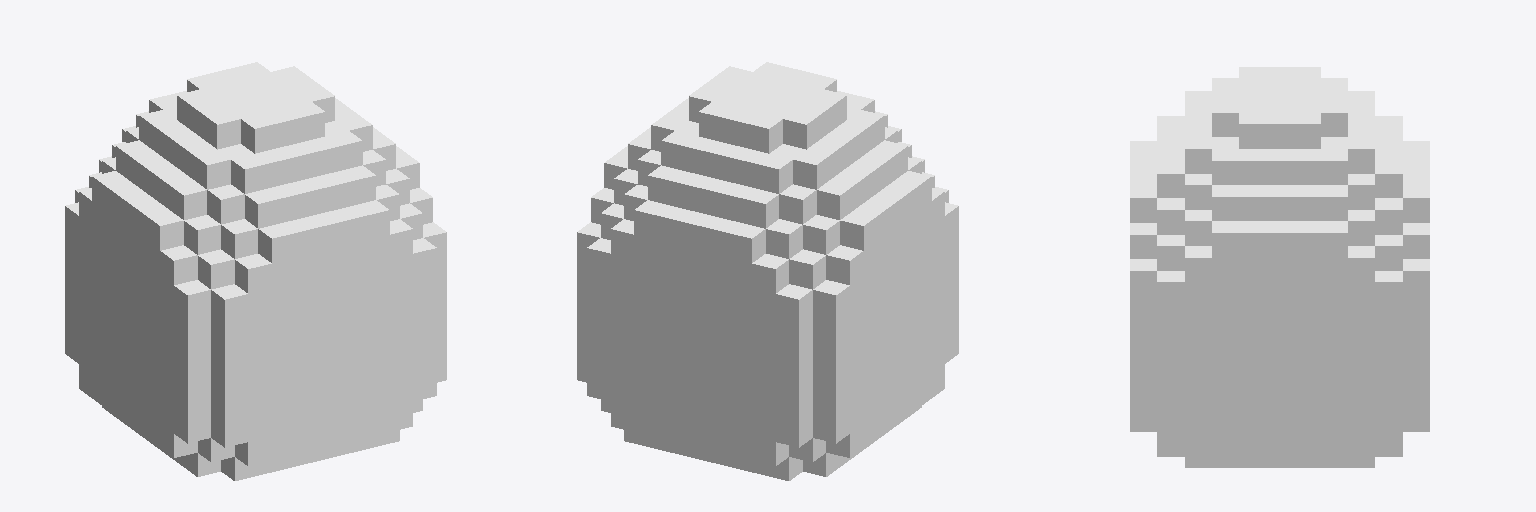
The model's file is egg_zigzag.obj.
3 renders of one model, left to right at view 1: azimuth 30°, elevation 25°; view 2: azimuth 150°, elevation 25°; view 3: azimuth 270°, elevation 25°, orthographic.
Parts seen in each view (by area): view 1: egg, egg_white, egg_gold, blob, egg_heart, egg_spotted, egg_zigzag; view 2: egg_zigzag, egg_white, egg, blob, egg_gold, egg_spotted, egg_heart; view 3: egg_zigzag, egg_white.
Boxes of the visible parts, x1,y1,x2,y2 form: egg: [65, 80, 446, 480]; egg_white: [65, 62, 445, 480]; egg_gold: [65, 194, 445, 480]; blob: [65, 121, 444, 440]; egg_heart: [65, 217, 436, 464]; egg_spotted: [65, 193, 446, 475]; egg_zigzag: [217, 97, 362, 200]; egg_zigzag: [577, 97, 863, 480]; egg_white: [578, 62, 958, 479]; egg: [653, 80, 958, 480]; blob: [754, 121, 956, 431]; egg_gold: [799, 190, 958, 476]; egg_spotted: [789, 194, 958, 479]; egg_heart: [837, 193, 958, 456]; egg_zigzag: [1130, 113, 1429, 467]; egg_white: [1130, 67, 1429, 281].
Bounding box in the file's own units: 1.1 × 1.3 × 1.1.